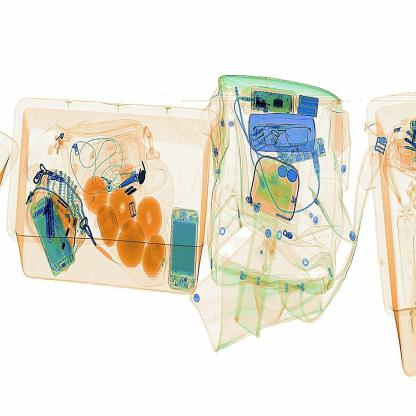scissors: (34, 180, 68, 246)
